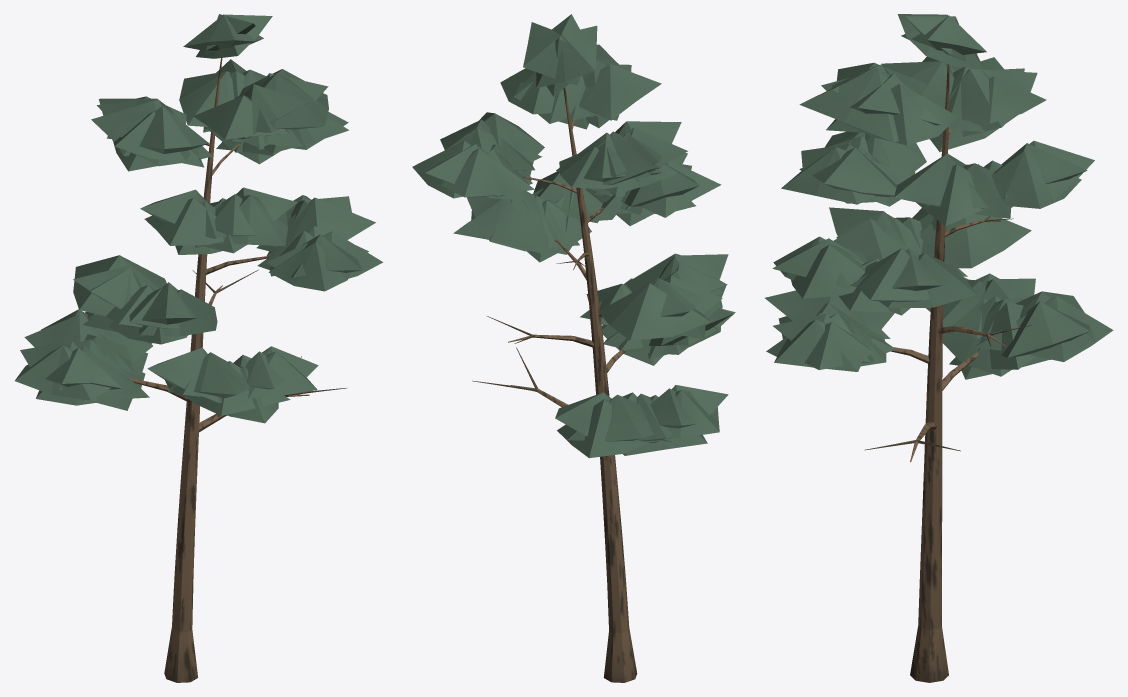
Rendered from forest_pine_tree_C.glb.
3 renders of one model, left to right at view 1: azimuth 30°, elevation 25°; view 2: azimuth 150°, elevation 25°; view 3: azimuth 270°, elevation 25°, orthographic. The views are drawn at different scales.
Parts seen in each view (by area): view 1: Foliage, Bark; view 2: Foliage, Bark; view 3: Foliage, Bark.
Part boxes in pixels (x1,y1,x2,y2): Foliage: [15, 14, 383, 423]; Bark: [130, 58, 346, 682]; Foliage: [412, 14, 735, 458]; Bark: [472, 87, 637, 682]; Foliage: [765, 14, 1113, 379]; Bark: [865, 64, 1031, 682].
Size of what is drawn, in the model's own units: 6 by 12 by 5.5.
Materials: 1 (1 with a texture image).
